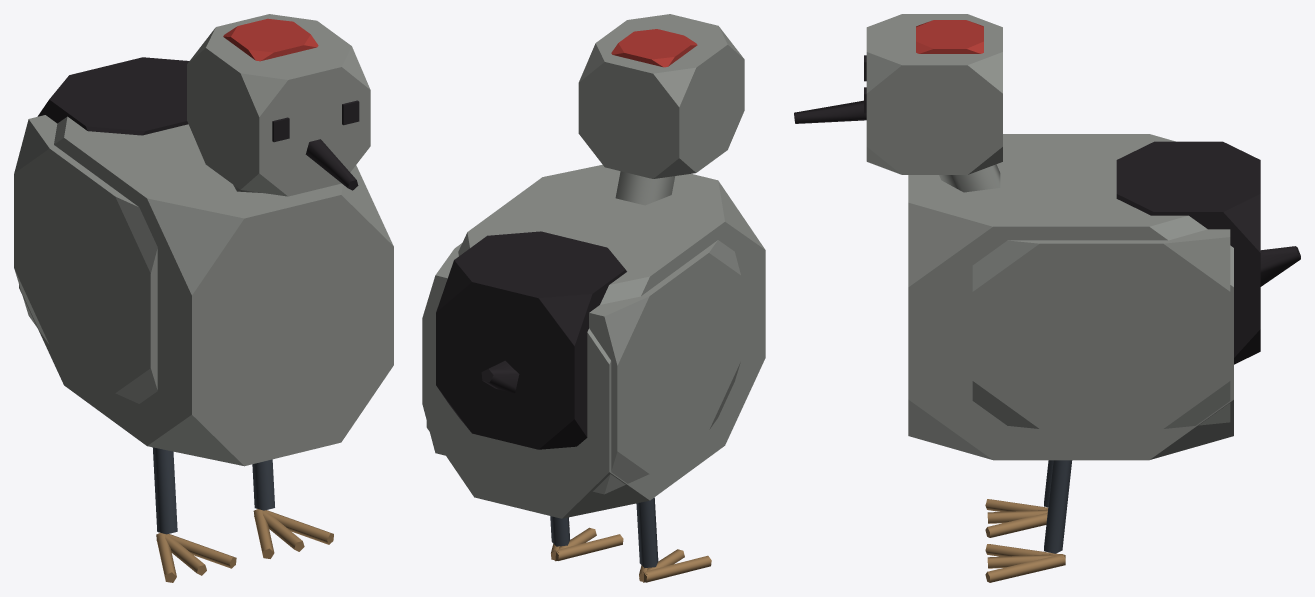
The model's file is original-crane.glb.
3 views of the same model, side by side, from view 1: azimuth 30°, elevation 25°; view 2: azimuth 150°, elevation 25°; view 3: azimuth 270°, elevation 25° (orthographic). The views are drawn at different scales.
Visible parts, largest first — view 1: crane; view 2: crane; view 3: crane.
Boxes of the visible parts, <box> form: crane: <box>14,14,393,582</box>; crane: <box>422,14,765,582</box>; crane: <box>794,14,1300,582</box>.
Bounding box in the file's own units: 0.62 × 1.49 × 1.34.
